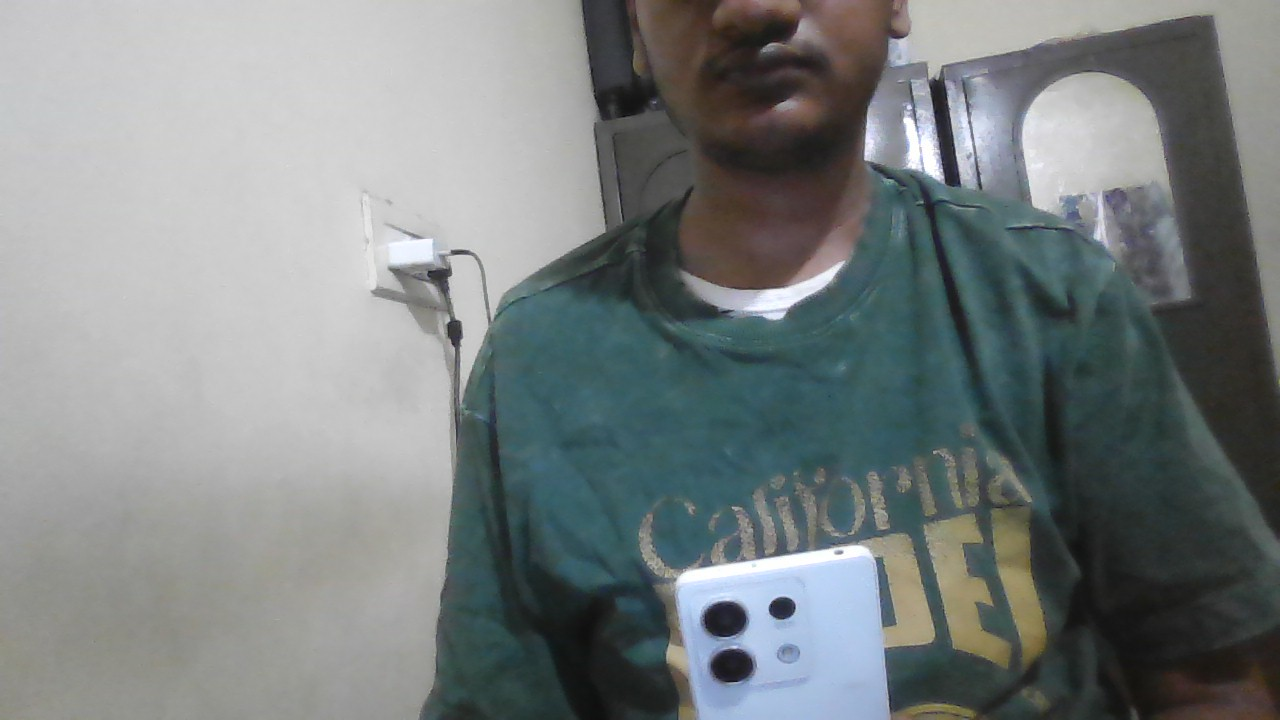phone: (669, 544, 883, 715)
